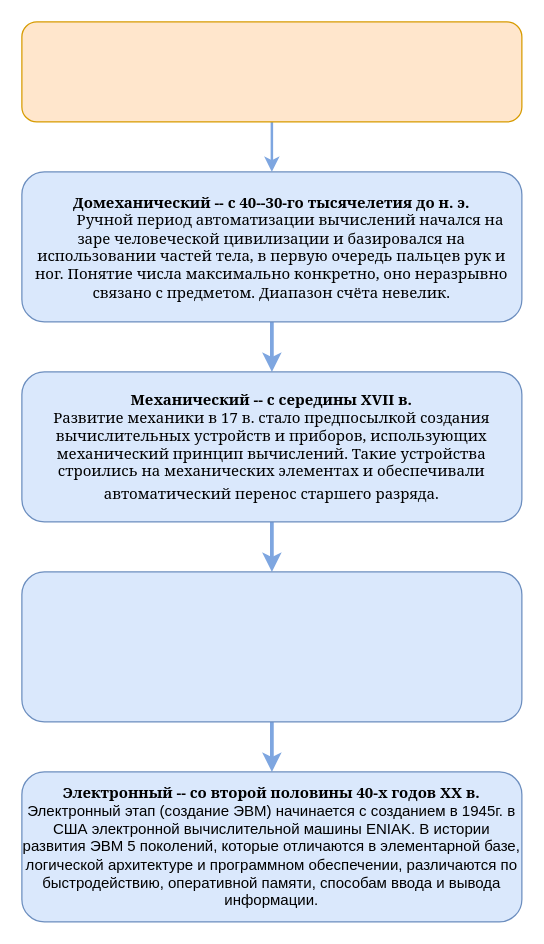
Some shapes in this 544 by 944 pixel diagram are drawn without their labels. The shapes that lost their labels are listed below. From the top down, each one's box as (x1, y1, x2, y2) in pixels, then its label:
(21, 21, 522, 122): Важные этапы в истории развития информатики и их социальные последствия.
(21, 571, 522, 722): Электромеханический -- с 90-х годов XIX в
